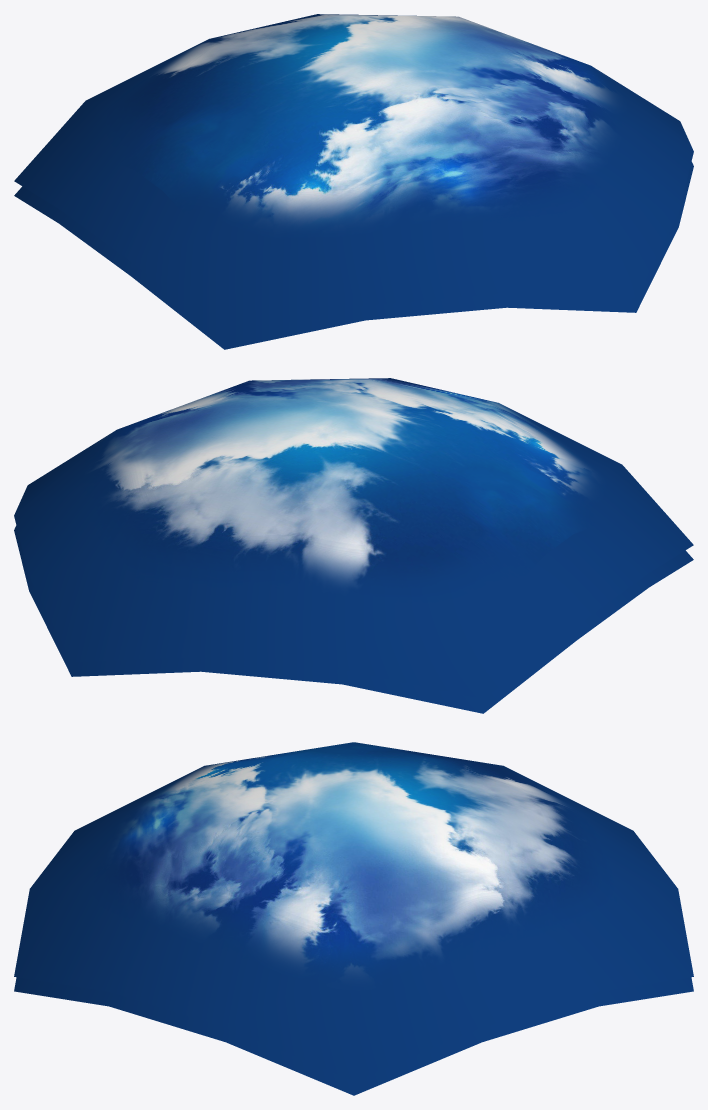
File: SkyDome.FBX
3 views of the same model, one above another, from view 1: azimuth 30°, elevation 25°; view 2: azimuth 150°, elevation 25°; view 3: azimuth 270°, elevation 25° (orthographic).
Visible parts, largest first — view 1: GeoSphere001; view 2: GeoSphere001; view 3: GeoSphere001.
Part boxes in pixels (bbox=[...]): GeoSphere001: bbox=[14, 14, 693, 349]; GeoSphere001: bbox=[14, 378, 693, 713]; GeoSphere001: bbox=[14, 742, 693, 1095].
Bounding box in the file's own units: 145 × 37.39 × 146.
